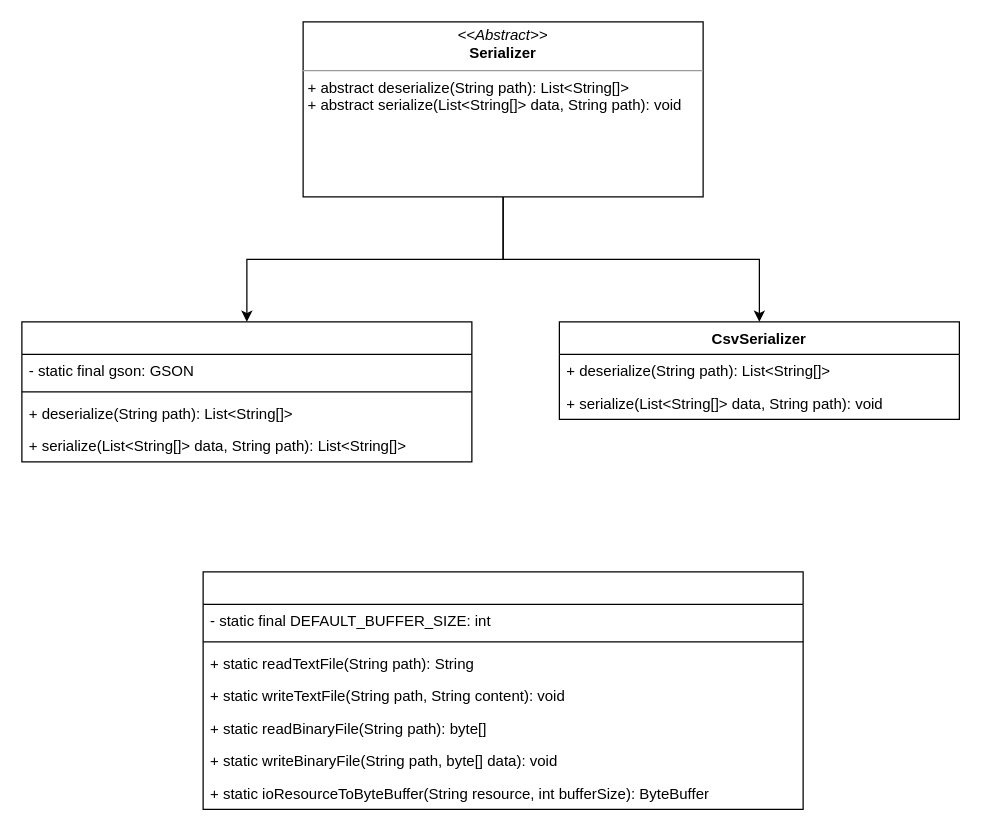
The diagram is 981 pixels wide and 835 high, and some of its shapes have lost their labels. Each missing label, with the box of its shape:
FileUtil: (202, 571, 803, 809)
JsonSerializer: (21, 321, 472, 462)
